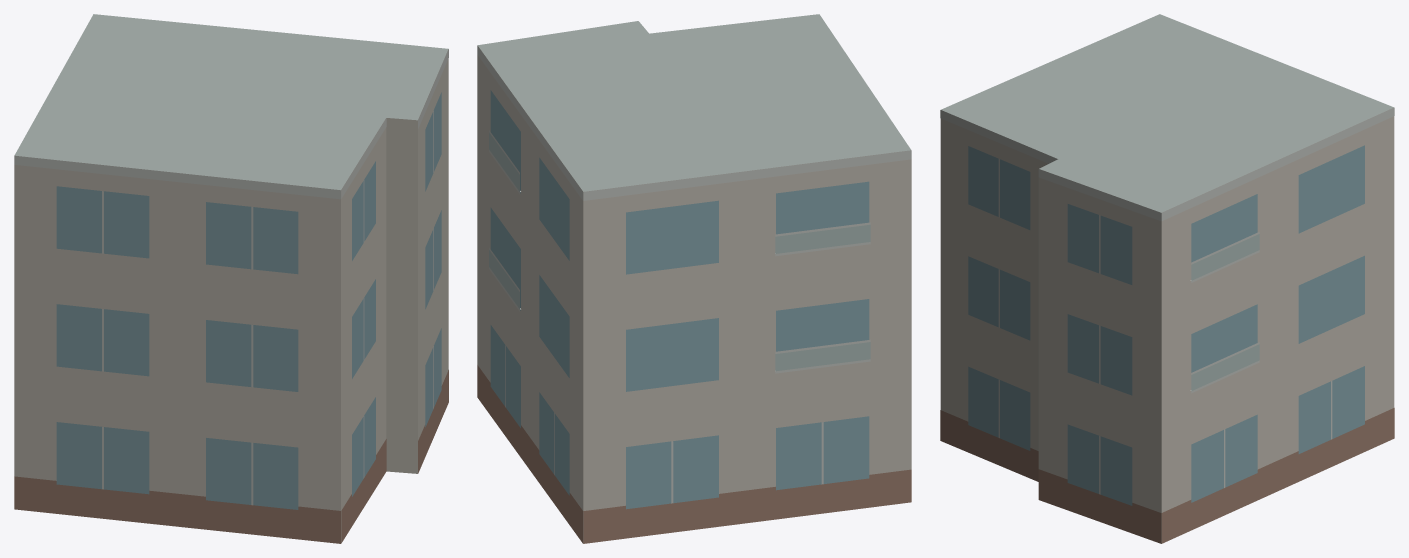
Rendered from survey-upis-32513249.glb.
3 renders of one model, left to right at view 1: azimuth 30°, elevation 25°; view 2: azimuth 150°, elevation 25°; view 3: azimuth 270°, elevation 25°, orthographic. The views are drawn at different scales.
Parts seen in each view (by area): view 1: survey-upis-32513249.tmp; view 2: survey-upis-32513249.tmp; view 3: survey-upis-32513249.tmp.
Part boxes in pixels (left/top/right/bottom): survey-upis-32513249.tmp: left=14, top=14, right=448, bottom=543; survey-upis-32513249.tmp: left=477, top=14, right=911, bottom=543; survey-upis-32513249.tmp: left=940, top=14, right=1394, bottom=543.
Size of the model in its own units: 12.11 by 9.4 by 11.68.
